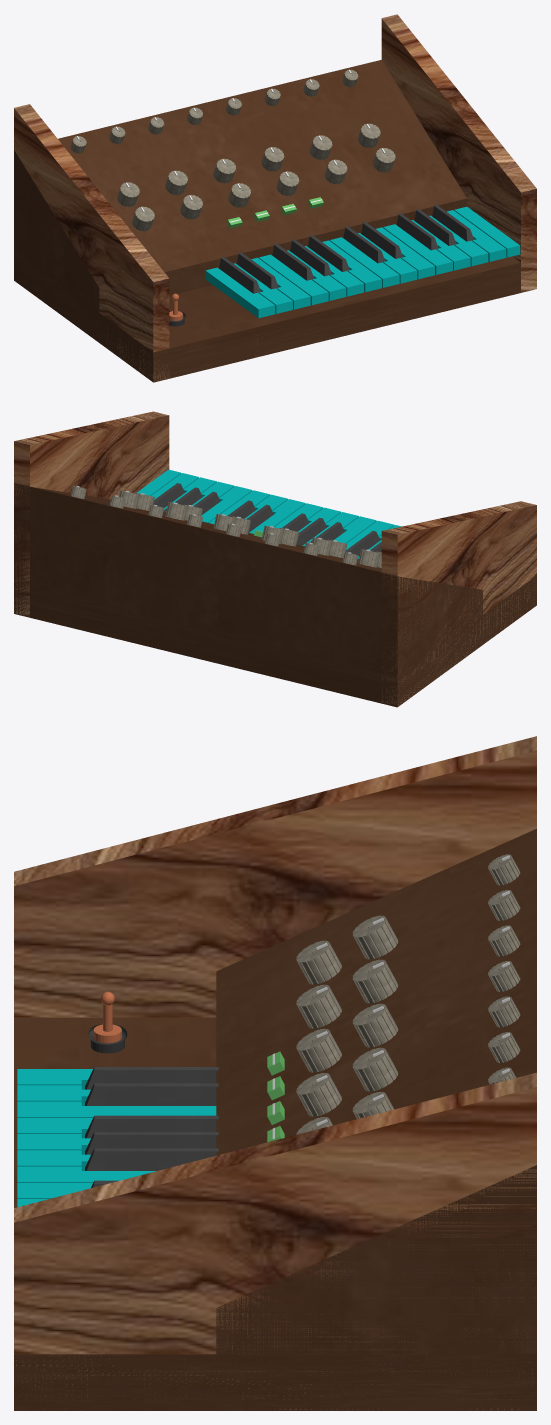
Rendered from Music_keyboard__0136.glb.
The picture shows the model from 3 angles, top to bottom: view 1: azimuth 30°, elevation 25°; view 2: azimuth 150°, elevation 25°; view 3: azimuth 270°, elevation 25°; orthographic projection. The views are drawn at different scales.
Visible parts, largest first — view 1: chassis::angled_panel, chassis::base_shell, chassis::cheek_1, chassis::cheek_0, white_key_0::key_body, white_key_3::key_body, white_key_7::key_body, white_key_10::key_body, white_key_14::key_body, white_key_13::key_body, white_key_2::key_body, white_key_6::key_body (+29 smaller); view 2: chassis::angled_panel, chassis::base_shell, chassis::cheek_1, chassis::cheek_0, white_key_10::key_body, white_key_7::key_body, white_key_3::key_body, white_key_14::key_body, black_key_3::key_body, white_key_9::key_body, black_key_9::key_body, black_key_1::key_body (+3 smaller); view 3: chassis::angled_panel, chassis::cheek_0, chassis::cheek_1, chassis::base_shell, black_key_1::key_body, black_key_4::key_body, white_key_2::key_body, black_key_2::key_body, black_key_0::key_body, black_key_3::key_body, white_key_6::key_body, osc_knob_0_0::knob_body (+14 smaller).
Boxes of the visible parts, box(x1,y1,x2,y2) form: chassis::angled_panel: box(14, 60, 466, 312); chassis::base_shell: box(14, 250, 520, 382); chassis::cheek_1: box(14, 104, 169, 382); chassis::cheek_0: box(381, 14, 536, 292); white_key_0::key_body: box(205, 267, 275, 318); white_key_3::key_body: box(258, 254, 328, 305); white_key_7::key_body: box(330, 237, 399, 287); white_key_10::key_body: box(383, 224, 452, 274); white_key_14::key_body: box(454, 206, 520, 257); white_key_13::key_body: box(447, 210, 506, 261); white_key_2::key_body: box(251, 257, 310, 309); white_key_6::key_body: box(322, 240, 381, 292); chassis::angled_panel: box(14, 483, 482, 676); chassis::base_shell: box(14, 575, 536, 707); chassis::cheek_1: box(381, 501, 536, 706); chassis::cheek_0: box(14, 411, 169, 617); white_key_10::key_body: box(201, 486, 252, 522); white_key_7::key_body: box(249, 499, 305, 533); white_key_3::key_body: box(334, 516, 376, 543); white_key_14::key_body: box(137, 469, 181, 495); black_key_3::key_body: box(296, 517, 326, 545); white_key_9::key_body: box(209, 490, 270, 524); black_key_9::key_body: box(153, 483, 184, 507); black_key_1::key_body: box(345, 531, 380, 556); chassis::angled_panel: box(216, 828, 536, 1354); chassis::cheek_0: box(14, 1072, 536, 1410); chassis::cheek_1: box(14, 736, 536, 1017); chassis::base_shell: box(14, 1017, 536, 1410); black_key_1::key_body: box(85, 1083, 218, 1105); black_key_4::key_body: box(85, 1148, 218, 1170); white_key_2::key_body: box(17, 1101, 216, 1117); black_key_2::key_body: box(85, 1115, 218, 1138); black_key_0::key_body: box(85, 1067, 218, 1089); black_key_3::key_body: box(85, 1132, 218, 1154); white_key_6::key_body: box(17, 1166, 156, 1182); osc_knob_0_0::knob_body: box(296, 940, 341, 984).
Bounding box in the file's own units: 0.531 × 0.2285 × 0.3344.
9 materials, 7 textured.
